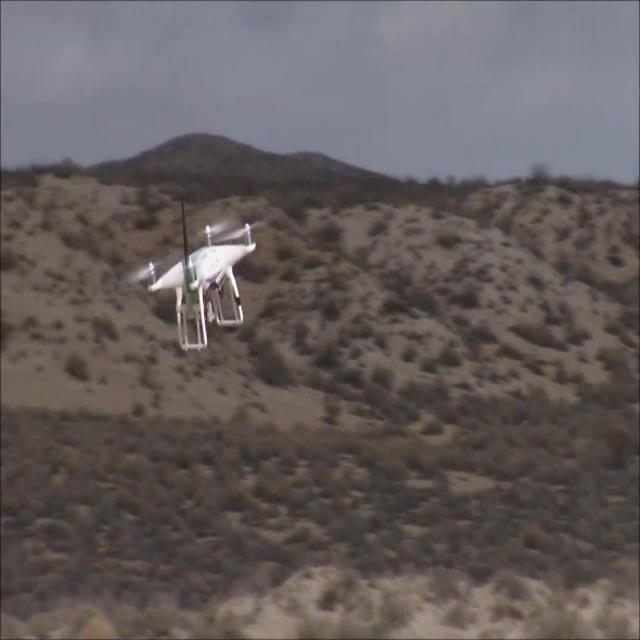UAV: (142, 220, 258, 354)
